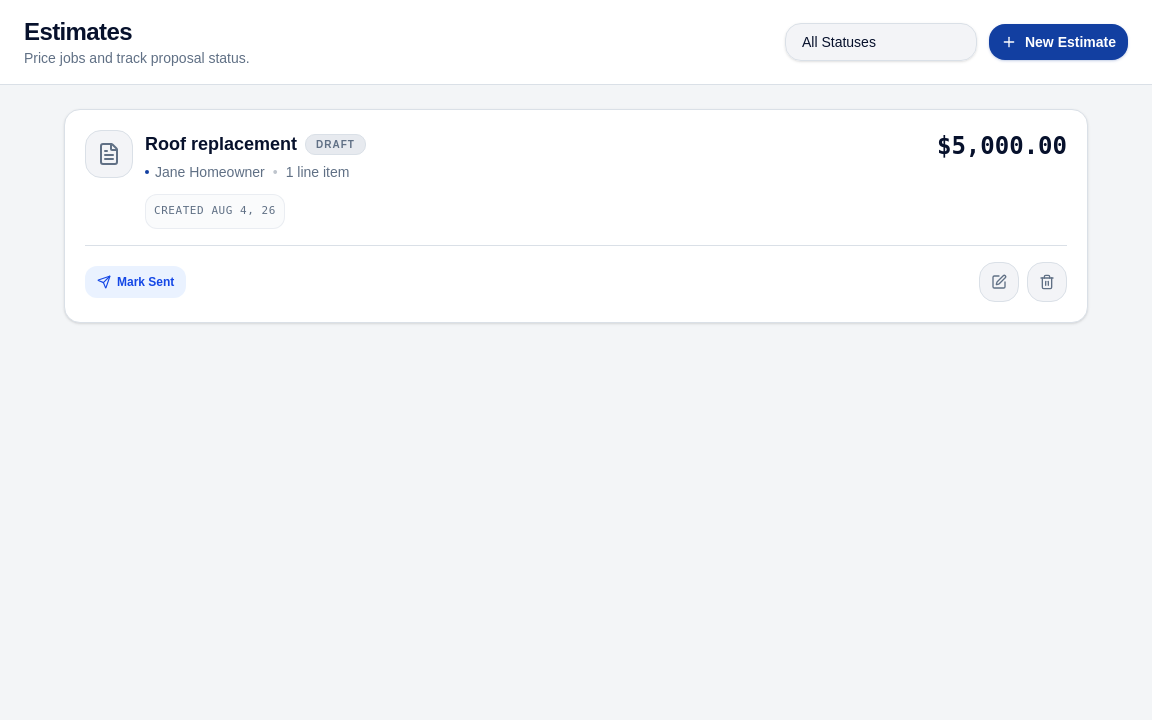
Test: Estimates status-change retry toast › shows a toast with Retry when the status change fails
Expected: the heading "Roof replacement" is shown, [145, 130, 297, 158]
Click the button "Mark Sent": (136, 282) [85, 266, 186, 298]
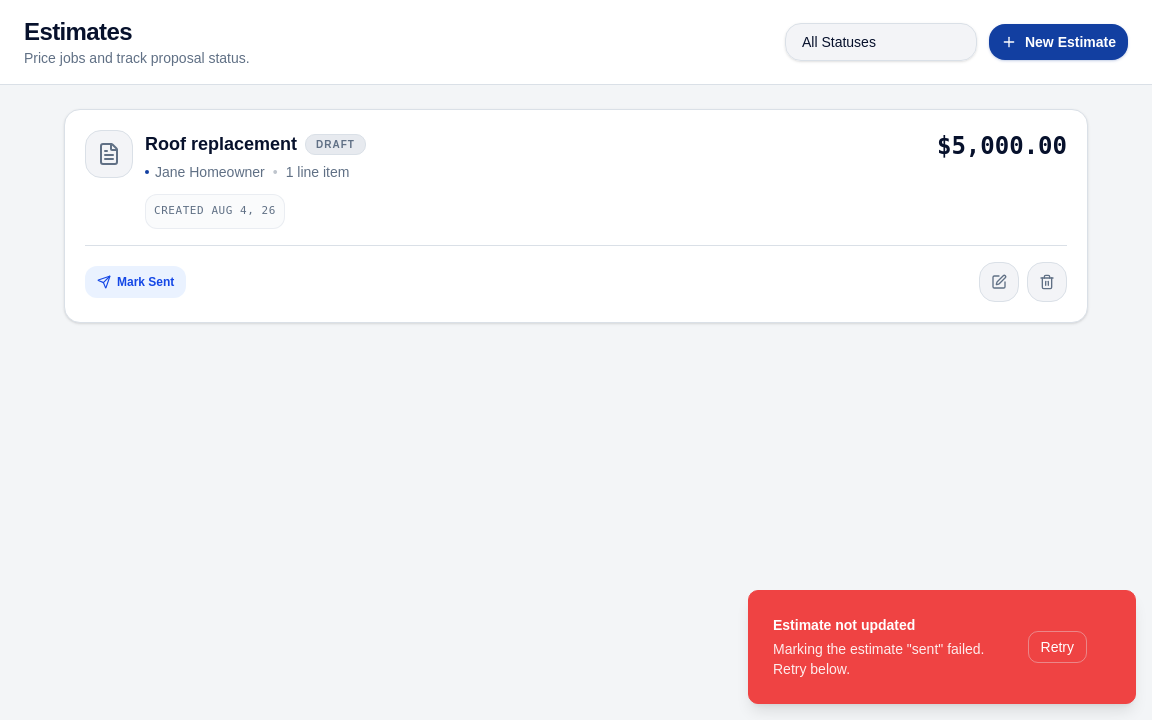
Result: the text "Estimate not updated" is shown at [773, 617, 915, 633]
Result: the button "Retry" is shown at [1028, 631, 1087, 663]
